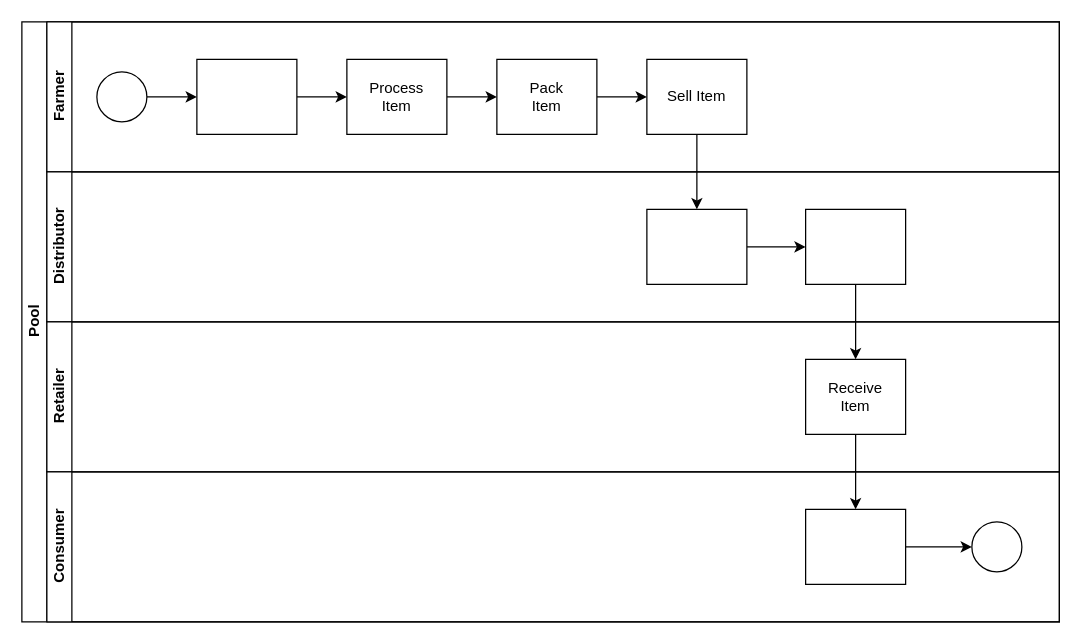
The diagram is 1081 pixels wide and 644 high, and some of its shapes have lost their labels. Each missing label, with the centre of its shape:
Buy Item: the point at 696,246
Harvest Item: the point at 246,96
Purchase Item: the point at 855,546
Ship Item: the point at 855,246
